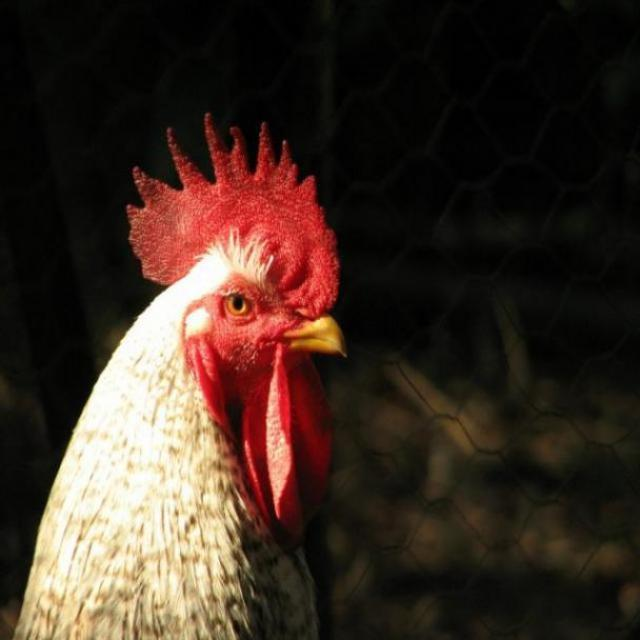Chicken: (51, 132, 348, 640)
